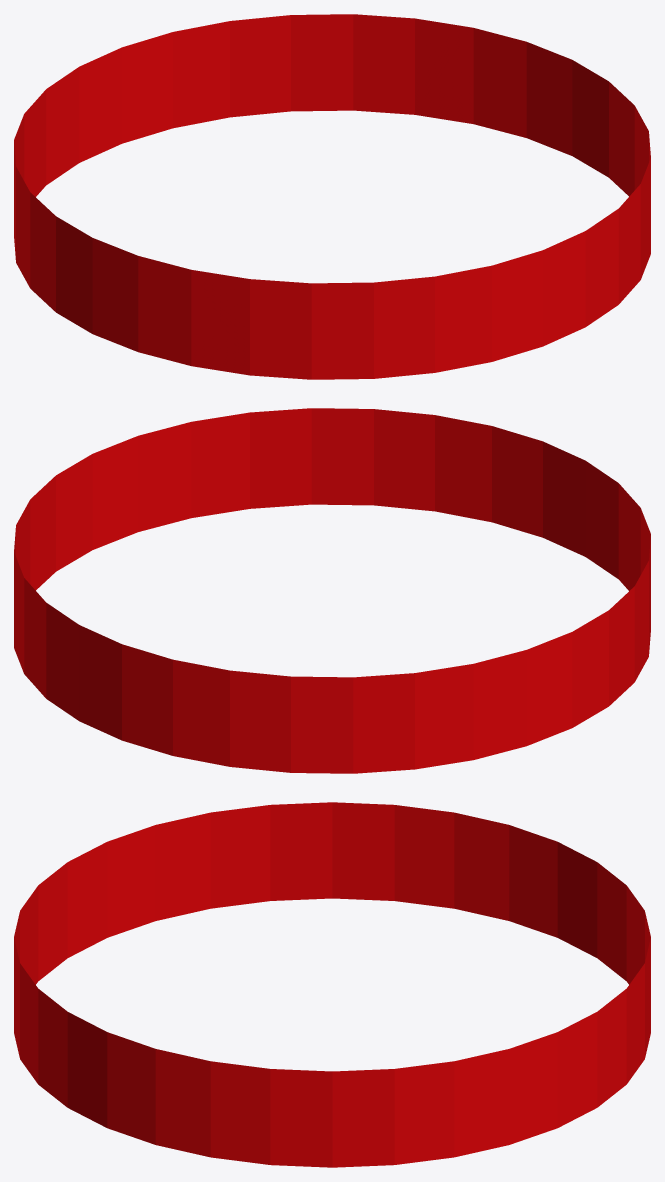
Rendered from AuraRingRed.obj.
3 renders of one model, top to bottom at view 1: azimuth 30°, elevation 25°; view 2: azimuth 150°, elevation 25°; view 3: azimuth 270°, elevation 25°, orthographic.
Parts seen in each view (by area): view 1: Circle; view 2: Circle; view 3: Circle.
Part boxes in pixels (<box>): Circle: <box>14,14,650,379</box>; Circle: <box>14,408,650,773</box>; Circle: <box>14,802,650,1167</box>.
Size of the model in its own units: 3 by 0.5 by 3.
1 material, 1 textured.
